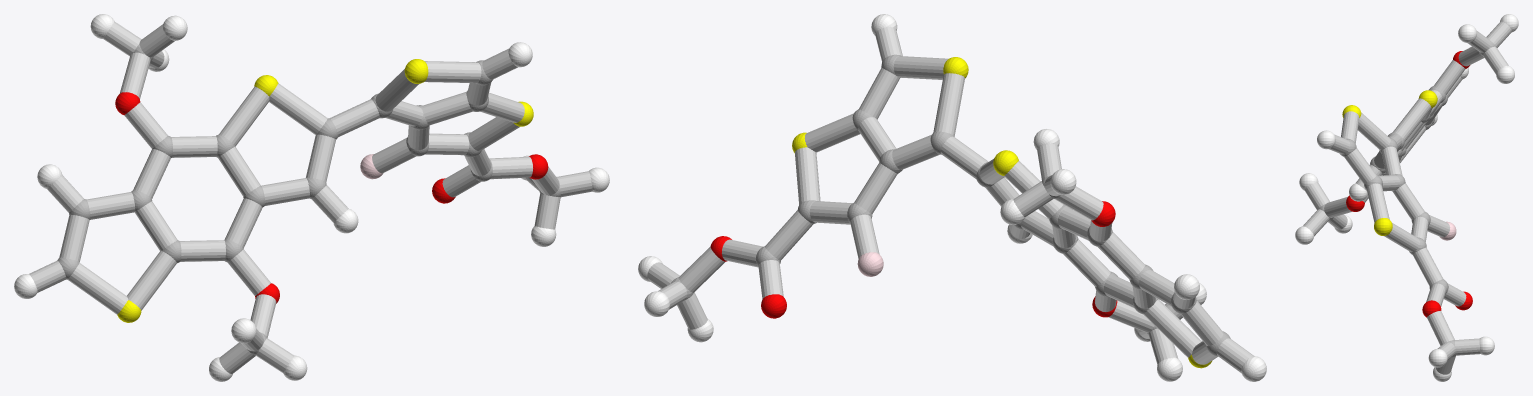
Rendered from color.glb.
3 views of the same model, side by side, from view 1: azimuth 30°, elevation 25°; view 2: azimuth 150°, elevation 25°; view 3: azimuth 270°, elevation 25° (orthographic). The views are drawn at different scales.
Parts seen in each view (by area): view 1: grp15205, grp8689, grp1, grp7241, grp13395; view 2: grp15205, grp8689, grp1, grp13395, grp7241, grp14843; view 3: grp15205, grp8689, grp1, grp13395, grp7241.
Part boxes in pixels (x1=…): grp15205: x1=29, y1=21, x2=592, y2=373; grp8689: x1=14, y1=14, x2=609, y2=381; grp1: x1=57, y1=43, x2=560, y2=355; grp7241: x1=117, y1=59, x2=533, y2=322; grp13395: x1=115, y1=92, x2=548, y2=303; grp15205: x1=647, y1=26, x2=1253, y2=373; grp8689: x1=638, y1=14, x2=1266, y2=381; grp1: x1=671, y1=54, x2=1230, y2=356; grp13395: x1=710, y1=201, x2=1117, y2=318; grp7241: x1=792, y1=57, x2=1211, y2=368; grp14843: x1=857, y1=252, x2=883, y2=276; grp15205: x1=1303, y1=21, x2=1511, y2=374; grp8689: x1=1295, y1=14, x2=1518, y2=381; grp1: x1=1318, y1=40, x2=1495, y2=357; grp13395: x1=1346, y1=51, x2=1472, y2=317; grp7241: x1=1342, y1=90, x2=1437, y2=235.
Bounding box in the file's own units: 16.43 × 7.93 × 7.07.
